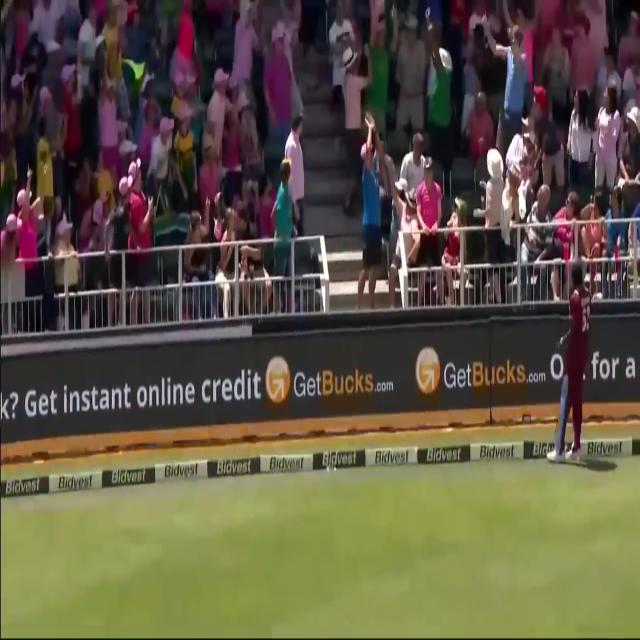Fielder: (556, 262, 591, 460)
